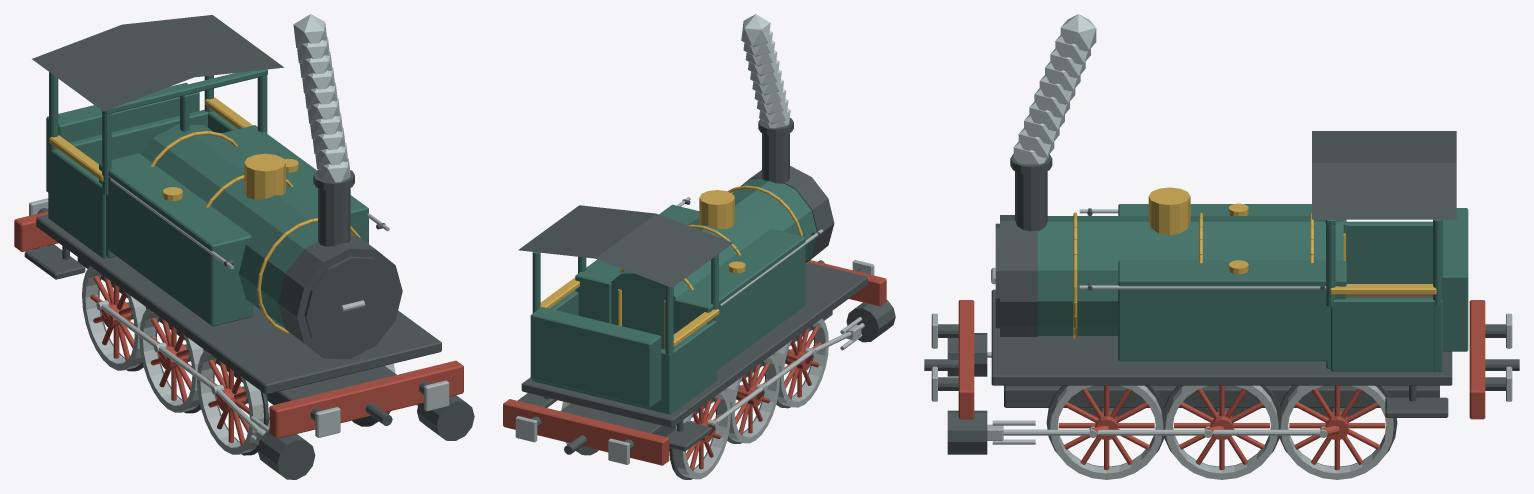
The model's file is steam-locomotive.glb.
3 views of the same model, side by side, from view 1: azimuth 30°, elevation 25°; view 2: azimuth 150°, elevation 25°; view 3: azimuth 270°, elevation 25° (orthographic). The views are drawn at different scales.
Parts seen in each view (by area): view 1: SteamLocomotive_mesh, DriverWheel_mesh, DriverWheel.004_mesh, DriverWheel.002_mesh, Exhaust.009_mesh, Exhaust_mesh, Exhaust.003_mesh, Exhaust.004_mesh, Exhaust.008_mesh, Exhaust.002_mesh, Exhaust.005_mesh, Exhaust.001_mesh (+2 smaller); view 2: SteamLocomotive_mesh, DriverWheel_mesh, DriverWheel.002_mesh, DriverWheel.004_mesh, Exhaust.009_mesh; view 3: SteamLocomotive_mesh, DriverWheel.001_mesh, DriverWheel.005_mesh, DriverWheel.003_mesh, Exhaust.009_mesh, Rod_pin1_0_pin1_1_mesh, Rod_pin1_1_pin1_2_mesh.
Boxes of the visible parts, x1,y1,x2,y2 form: SteamLocomotive_mesh: (14, 15, 474, 479); DriverWheel_mesh: (197, 350, 269, 455); DriverWheel.004_mesh: (82, 266, 146, 371); DriverWheel.002_mesh: (139, 308, 204, 413); Exhaust.009_mesh: (293, 14, 326, 48); Exhaust_mesh: (318, 158, 350, 182); Exhaust.003_mesh: (310, 112, 342, 139); Exhaust.004_mesh: (307, 97, 340, 124); Exhaust.008_mesh: (297, 37, 329, 63); Exhaust.002_mesh: (312, 128, 345, 154); Exhaust.005_mesh: (305, 82, 337, 109); Exhaust.001_mesh: (315, 143, 347, 169); SteamLocomotive_mesh: (503, 118, 895, 465); DriverWheel_mesh: (773, 318, 828, 408); DriverWheel.002_mesh: (724, 354, 779, 443); DriverWheel.004_mesh: (669, 390, 730, 479); Exhaust.009_mesh: (741, 14, 770, 47); SteamLocomotive_mesh: (924, 131, 1519, 454); DriverWheel.001_mesh: (1046, 385, 1165, 479); DriverWheel.005_mesh: (1278, 385, 1397, 479); DriverWheel.003_mesh: (1163, 385, 1281, 479); Exhaust.009_mesh: (1060, 14, 1096, 51); Rod_pin1_0_pin1_1_mesh: (1097, 429, 1205, 435); Rod_pin1_1_pin1_2_mesh: (1212, 429, 1320, 435).
Size of the model in its own units: 1.13 by 2.29 by 2.84.
